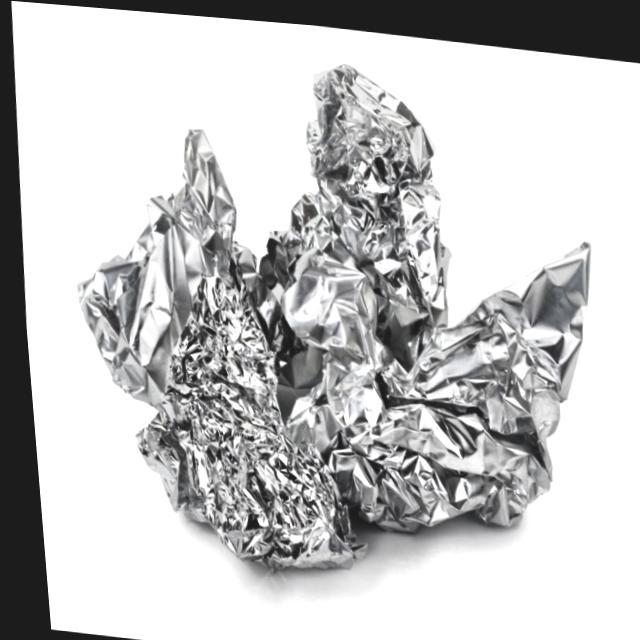Foil: (21, 17, 639, 639)
